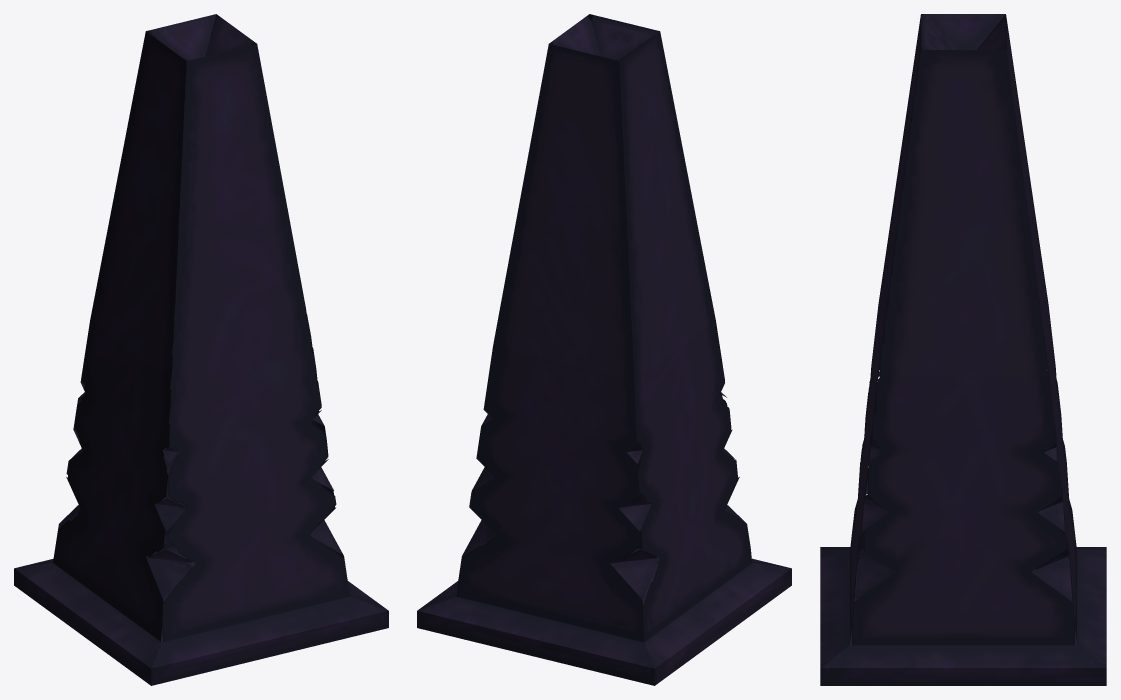
Rendered from obelisk3.obj.
3 renders of one model, left to right at view 1: azimuth 30°, elevation 25°; view 2: azimuth 150°, elevation 25°; view 3: azimuth 270°, elevation 25°, orthographic. The views are drawn at different scales.
Parts seen in each view (by area): view 1: Cube.001; view 2: Cube.001; view 3: Cube.001.
Boxes of the visible parts, box(x1,y1,x2,y2) form: Cube.001: box(14, 14, 388, 685); Cube.001: box(417, 14, 791, 685); Cube.001: box(820, 14, 1106, 685).
Bounding box in the file's own units: 2.02 × 4.62 × 2.02.
